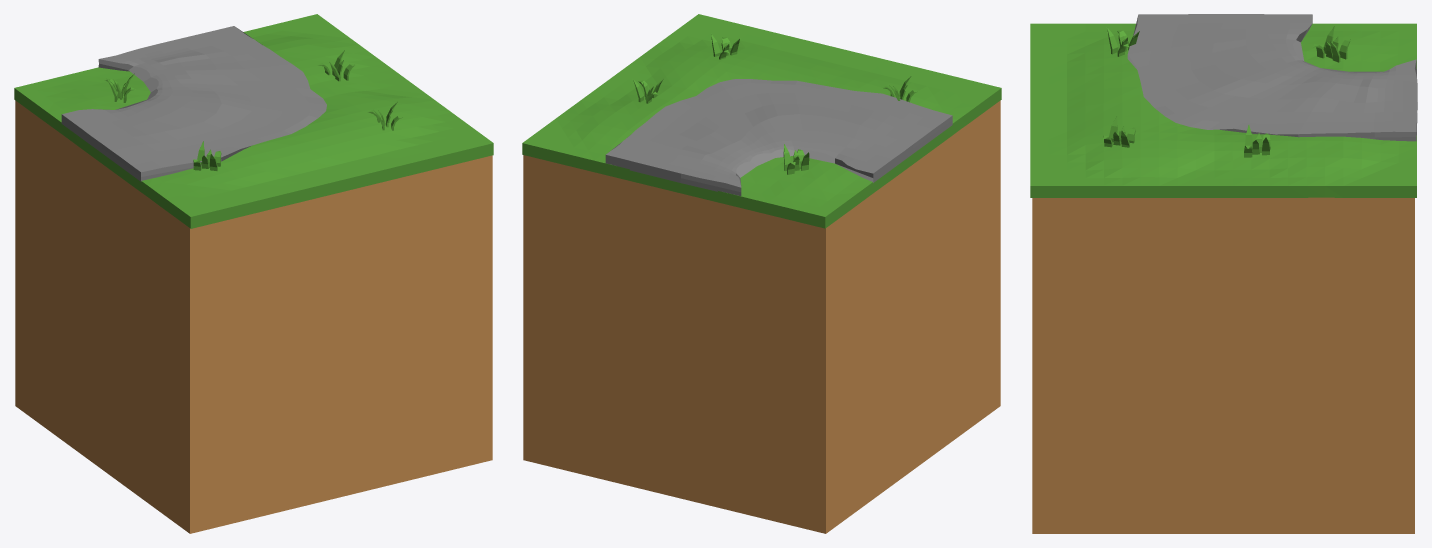
File: StonePathTurn1.0.fbx
3 views of the same model, side by side, from view 1: azimuth 30°, elevation 25°; view 2: azimuth 150°, elevation 25°; view 3: azimuth 270°, elevation 25° (orthographic). The views are drawn at different scales.
Parts seen in each view (by area): view 1: StonePath.001, Grass.002, Path.001; view 2: StonePath.001, Grass.002, Path.001; view 3: StonePath.001, Grass.002, Path.001, Plane.011, Plane.009, Plane.008, Plane.010.
Part boxes in pixels (x1,y1,x2,y2): StonePath.001: (15, 100, 492, 533); Grass.002: (14, 14, 493, 228); Path.001: (61, 26, 326, 181); StonePath.001: (523, 100, 1000, 533); Grass.002: (522, 14, 1001, 228); Path.001: (605, 79, 952, 195); StonePath.001: (1032, 197, 1414, 533); Grass.002: (1030, 23, 1416, 197); Path.001: (1127, 14, 1417, 141); Plane.011: (1313, 26, 1350, 62); Plane.009: (1244, 125, 1270, 157); Plane.008: (1103, 116, 1135, 147); Plane.010: (1106, 27, 1139, 56).
Bounding box in the file's own units: 1004 × 1080 × 1012.
